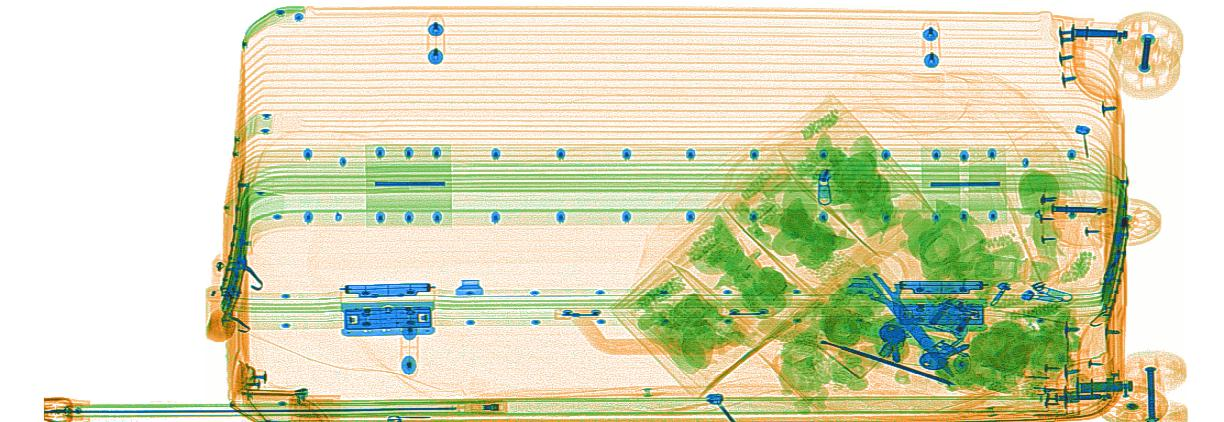scissors: (833, 248, 953, 381)
